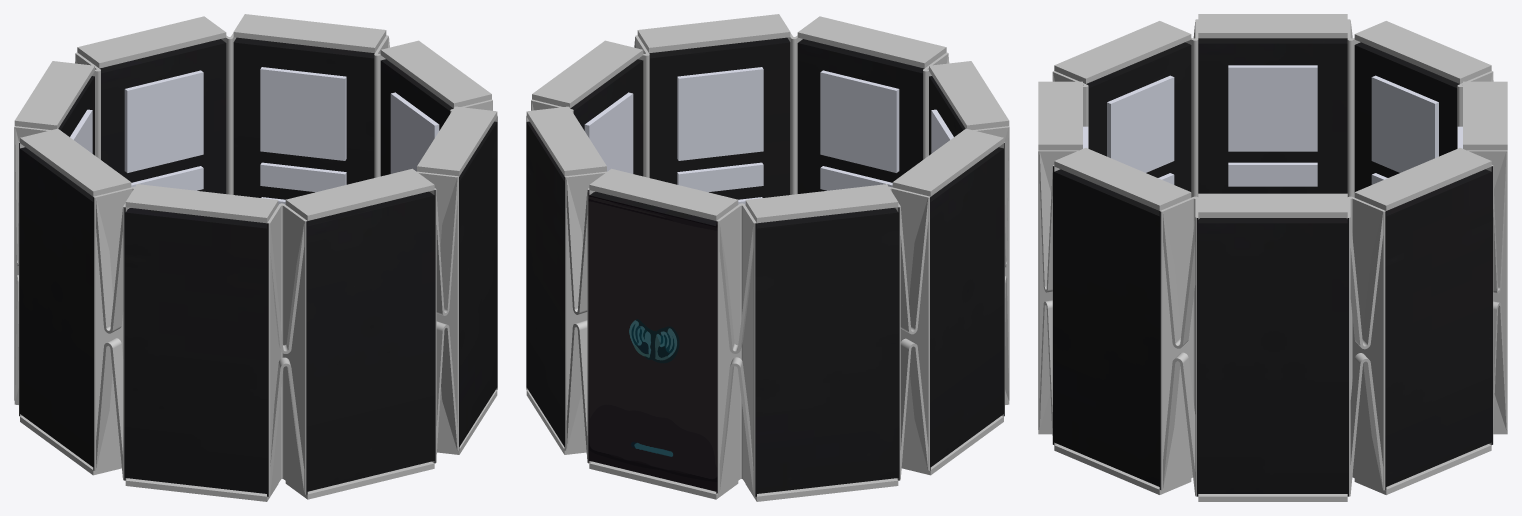
The model's file is MODELOFINALMYOARMBAND.gltf.
The picture shows the model from 3 angles, left to right: view 1: azimuth 30°, elevation 25°; view 2: azimuth 150°, elevation 25°; view 3: azimuth 270°, elevation 25°; orthographic projection.
Visible parts, largest first — view 1: cara6, cara5, 3DGeom-619, 3DGeom-618, cara8, 3DGeom-621, 3DGeom-29, cara4, 3DGeom-25, 3DGeom-44 (×5), cara6-sup, cara2-sup (+10 smaller); view 2: cara7, cara1, 3DGeom-619, 3DGeom-618, cara8, 3DGeom-621, 3DGeom-35, cara2, 3DGeom-38, cara7-sup, cara4-sup, cara5-sup (+11 smaller); view 3: cara3, cara2, cara4, 3DGeom-619, 3DGeom-618, 3DGeom-621, 3DGeom-47, 3DGeom-44 (×7), 3DGeom-41, cara3-sup, cara8-sup, cara6-sup (+8 smaller).
Part boxes in pixels (x1,y1,x2,y2): cara6: [124, 207, 268, 496]; cara5: [306, 190, 435, 494]; 3DGeom-619: [14, 32, 497, 496]; 3DGeom-618: [70, 67, 439, 204]; cara8: [19, 143, 93, 470]; 3DGeom-621: [15, 36, 492, 494]; 3DGeom-29: [233, 42, 374, 199]; cara4: [459, 116, 497, 449]; 3DGeom-25: [101, 43, 226, 193]; 3DGeom-44 (×5): [61, 37, 434, 228]; cara6-sup: [125, 184, 278, 223]; cara2-sup: [233, 14, 386, 53]; cara7: [755, 207, 899, 496]; cara1: [588, 190, 717, 493]; 3DGeom-619: [526, 32, 1009, 496]; 3DGeom-618: [584, 67, 953, 204]; cara8: [930, 143, 1004, 470]; 3DGeom-621: [531, 37, 1008, 494]; 3DGeom-35: [649, 42, 790, 199]; cara2: [526, 116, 564, 449]; 3DGeom-38: [797, 43, 922, 193]; cara7-sup: [745, 184, 898, 223]; cara4-sup: [637, 14, 790, 53]; cara5-sup: [797, 16, 946, 68]; cara3: [1197, 218, 1348, 496]; cara2: [1385, 166, 1492, 489]; cara4: [1053, 166, 1160, 489]; 3DGeom-619: [1038, 19, 1507, 496]; 3DGeom-618: [1083, 65, 1462, 186]; 3DGeom-621: [1039, 21, 1506, 494]; 3DGeom-47: [1198, 43, 1347, 193]; 3DGeom-44 (×7): [1054, 38, 1491, 223]; 3DGeom-41: [1088, 45, 1191, 191]; cara3-sup: [1198, 193, 1347, 217]; cara8-sup: [1198, 14, 1347, 38]; cara6-sup: [1054, 21, 1191, 83].
Size of the model in its own units: 0.0399 by 0.0272 by 0.0399.
Materials: 6 (2 with a texture image).
